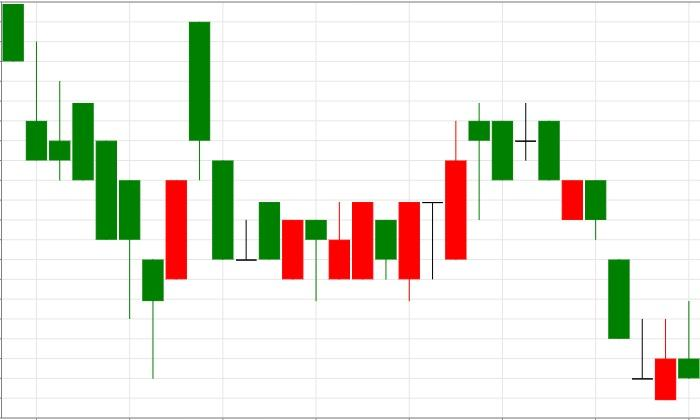hammer_rise: (2, 4, 164, 379), (189, 21, 327, 301)
